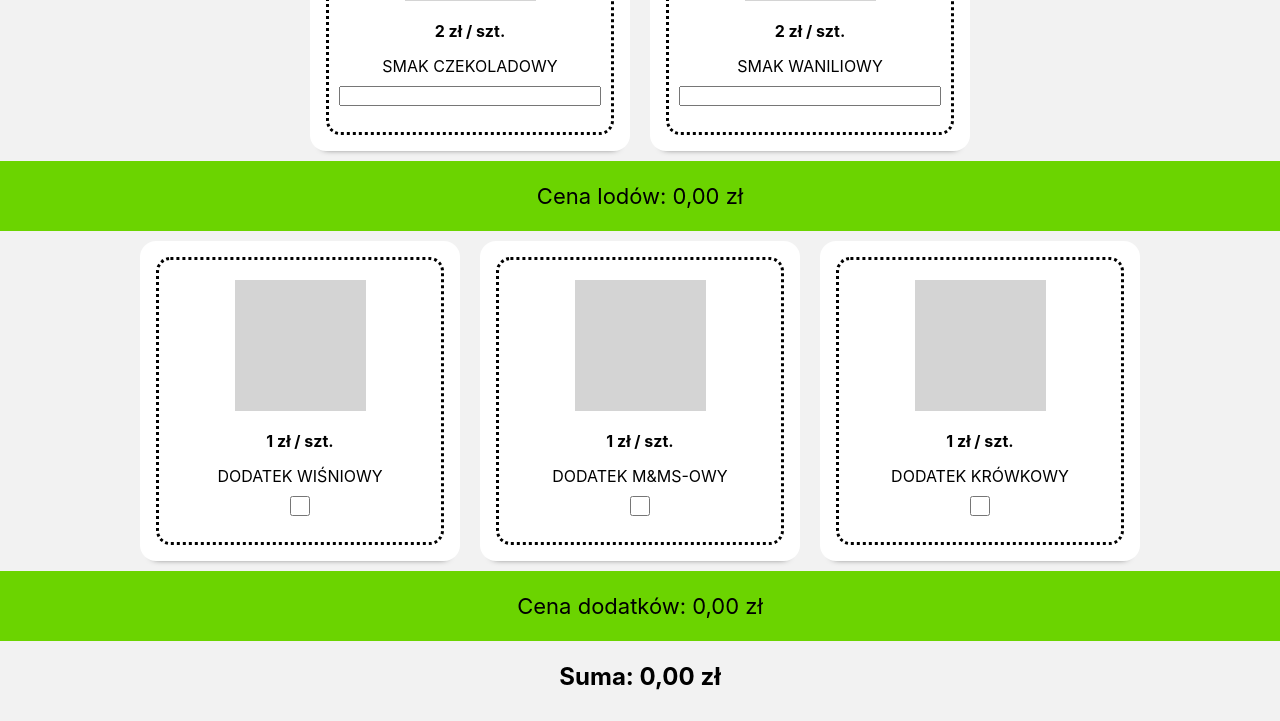
it: test switching to next section › if the information is complete the button is active
Type "1" into the number field labelled "Smak czekoladowy".
click(470, 96); type("1")  # box [339,86,601,106]
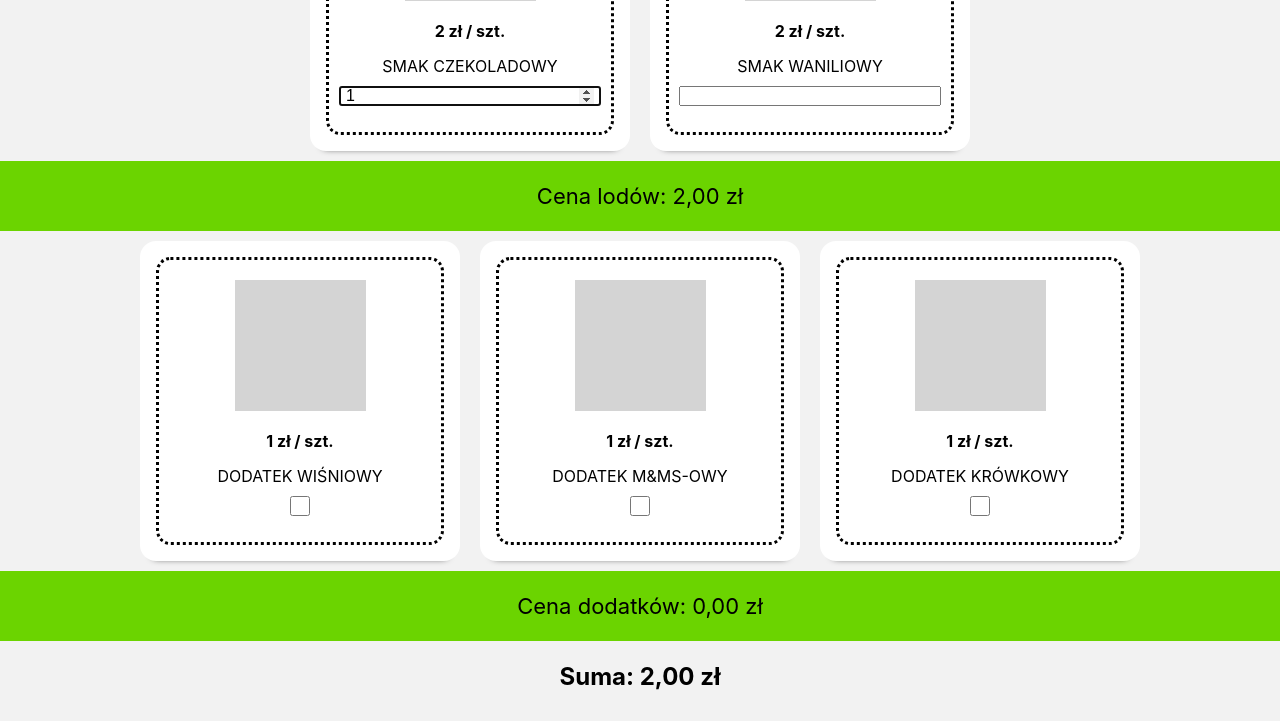
Note: clear the input
Clear the number field labelled "Smak czekoladowy" at (470, 96), box [339,86,601,106]
(page scrolled)
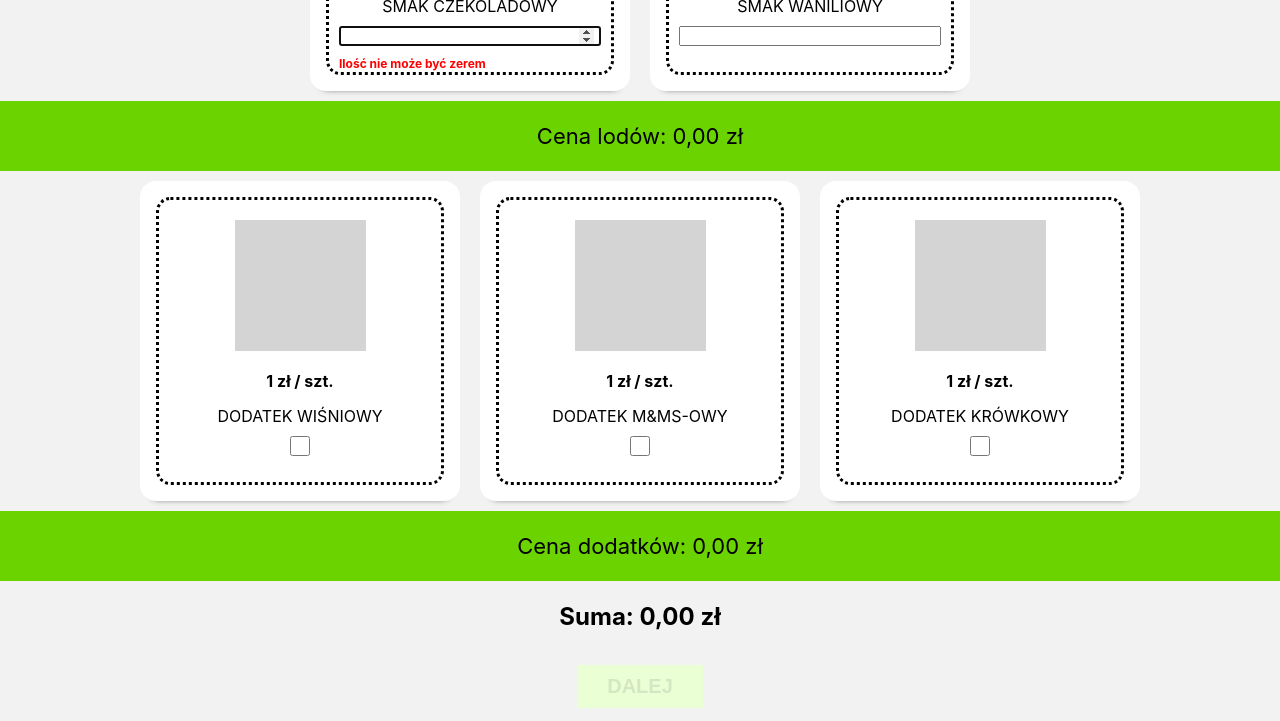
Expected: the button "Dalej" is disabled, [577,664,703,708]
